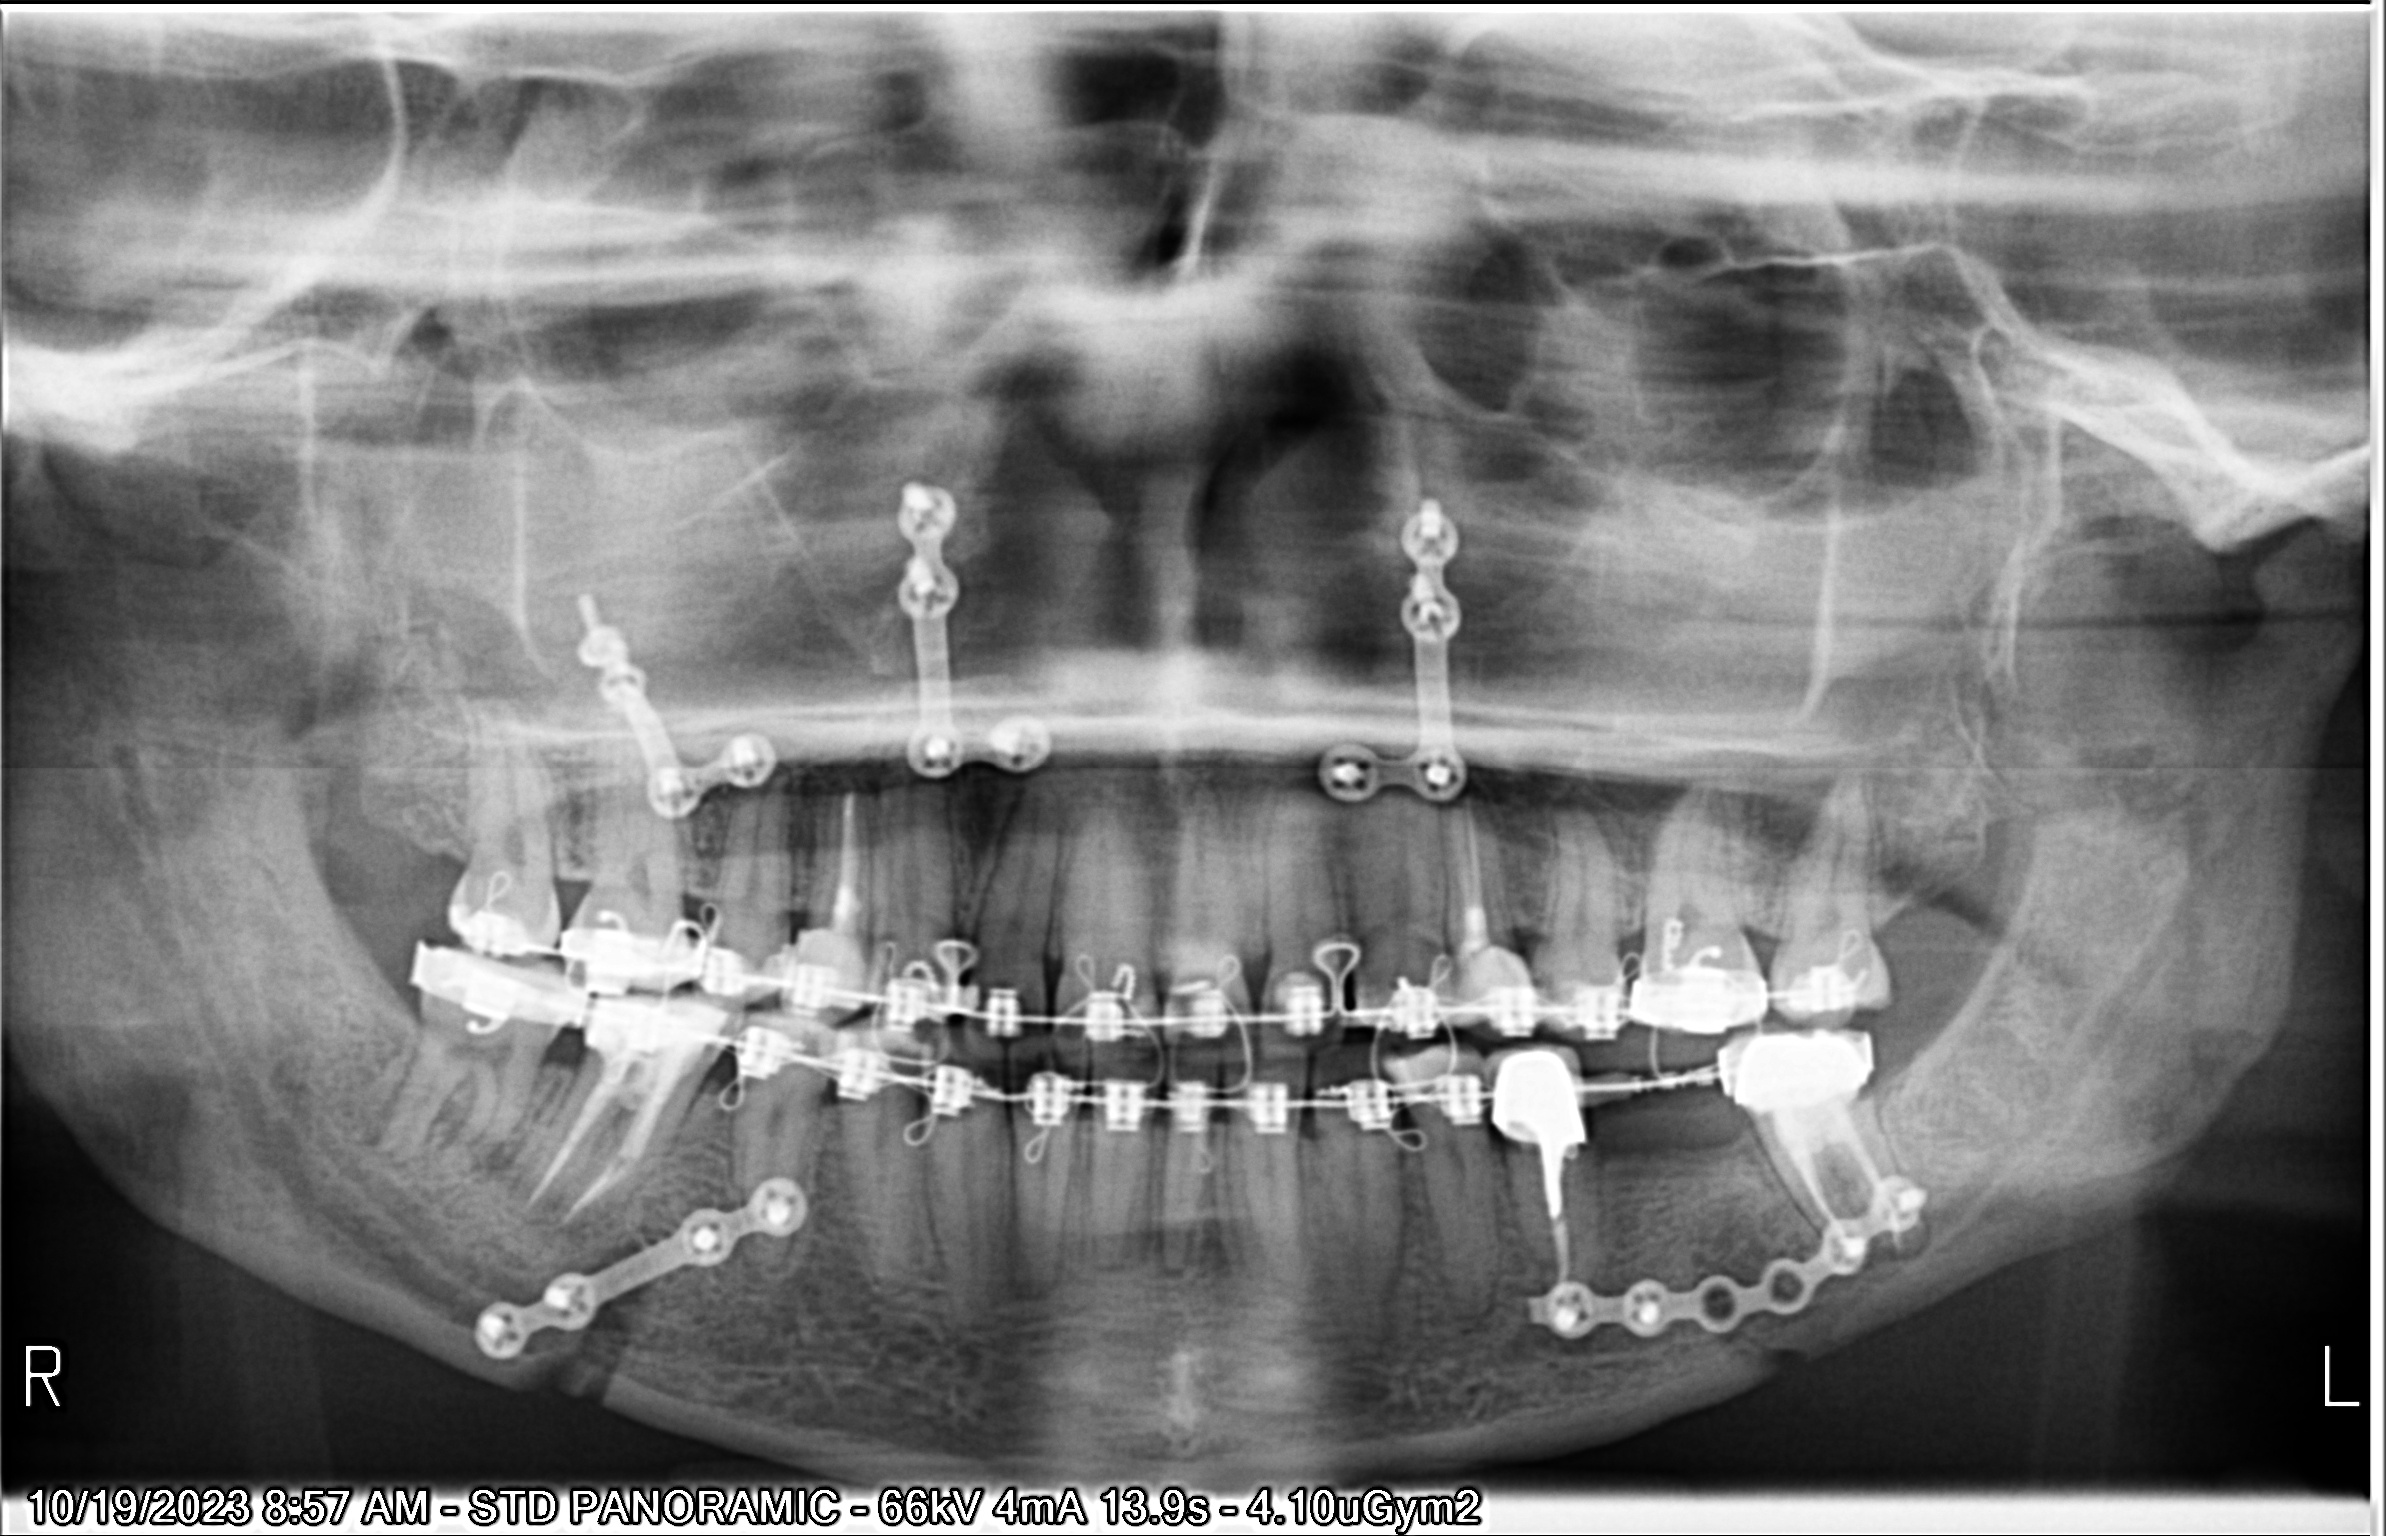END: (1760, 1108, 1932, 1263), (523, 1082, 697, 1232), (1433, 781, 1515, 969), (1536, 1138, 1591, 1303), (816, 772, 871, 925)
ORD: (393, 934, 1903, 1160), (443, 889, 1880, 1061)
SRD: (1516, 1148, 1925, 1397), (452, 1131, 833, 1392), (1276, 454, 1497, 821), (838, 464, 1087, 790), (539, 583, 805, 831)
